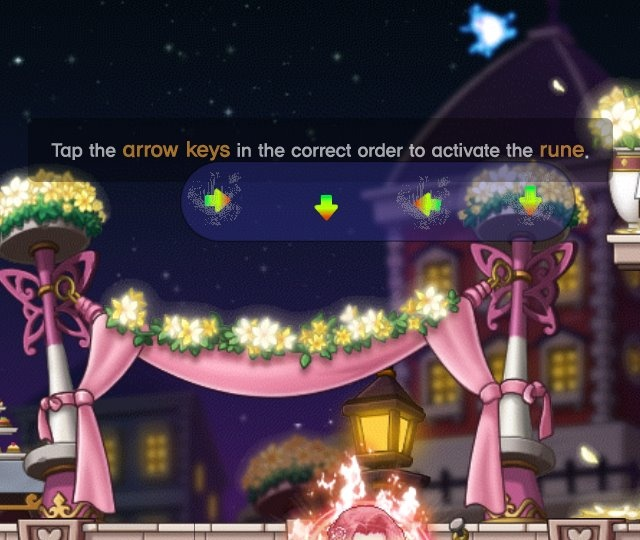down: (307, 187, 348, 230), (513, 179, 548, 221)
left: (405, 186, 451, 224)
right: (197, 185, 235, 218)
